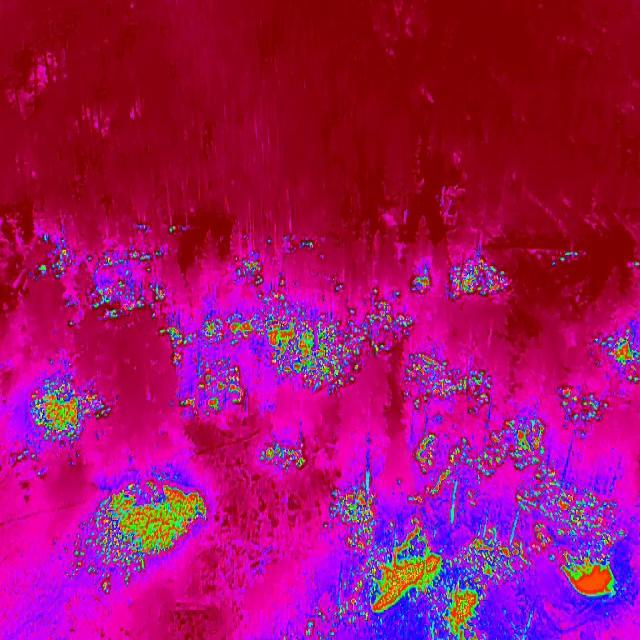fire: (158, 284, 416, 424), (68, 481, 208, 599), (515, 464, 623, 602), (408, 414, 549, 518), (34, 244, 170, 330), (371, 524, 452, 616), (17, 374, 113, 444), (405, 349, 495, 415), (451, 526, 532, 592), (446, 250, 524, 304), (592, 315, 640, 387), (430, 583, 492, 638), (338, 524, 372, 624), (550, 378, 612, 429), (327, 478, 379, 532), (257, 433, 310, 475), (274, 229, 324, 262), (232, 254, 269, 288), (548, 249, 586, 269), (409, 270, 434, 300), (165, 222, 188, 239)
